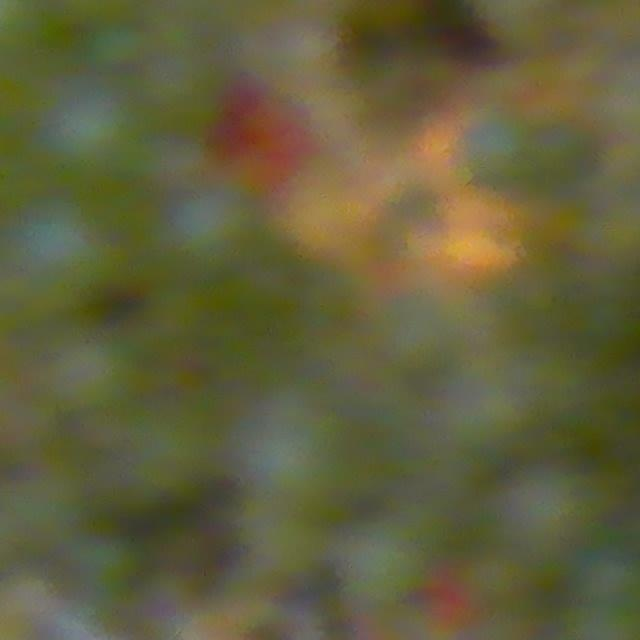SeaGrape: (37, 78, 142, 181), (496, 460, 602, 557), (245, 424, 347, 517), (164, 178, 259, 270), (338, 518, 429, 608), (148, 35, 226, 132), (48, 338, 131, 421), (461, 103, 542, 186), (10, 205, 91, 283), (248, 517, 327, 584), (92, 16, 154, 75)
